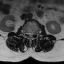CCS_normal: (30, 30, 31, 38)
LFS_stenosis: (33, 31, 35, 36)
LLS_stenosis: (31, 30, 33, 37)
RFS_normal: (25, 29, 28, 36)
RLS_normal: (28, 30, 30, 37)
